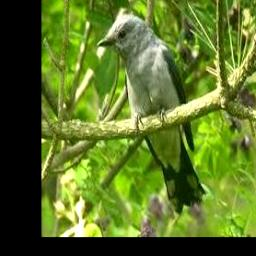Cuckoo: (97, 15, 205, 213)
